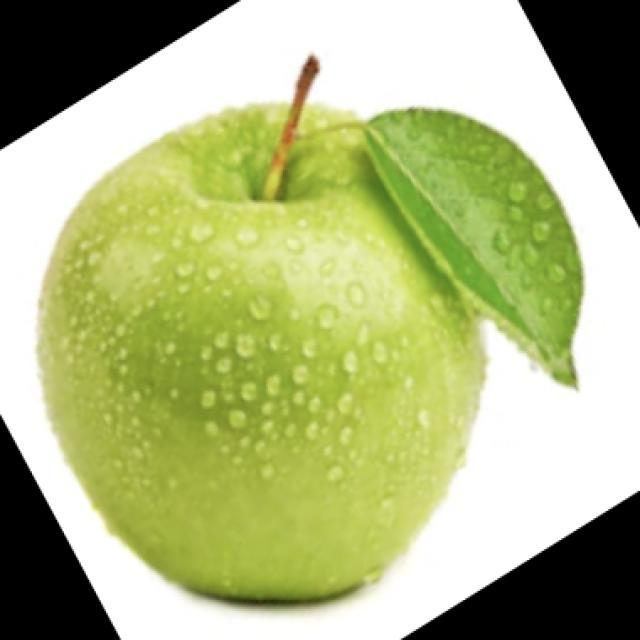Fresh Apple: (36, 94, 494, 602)
